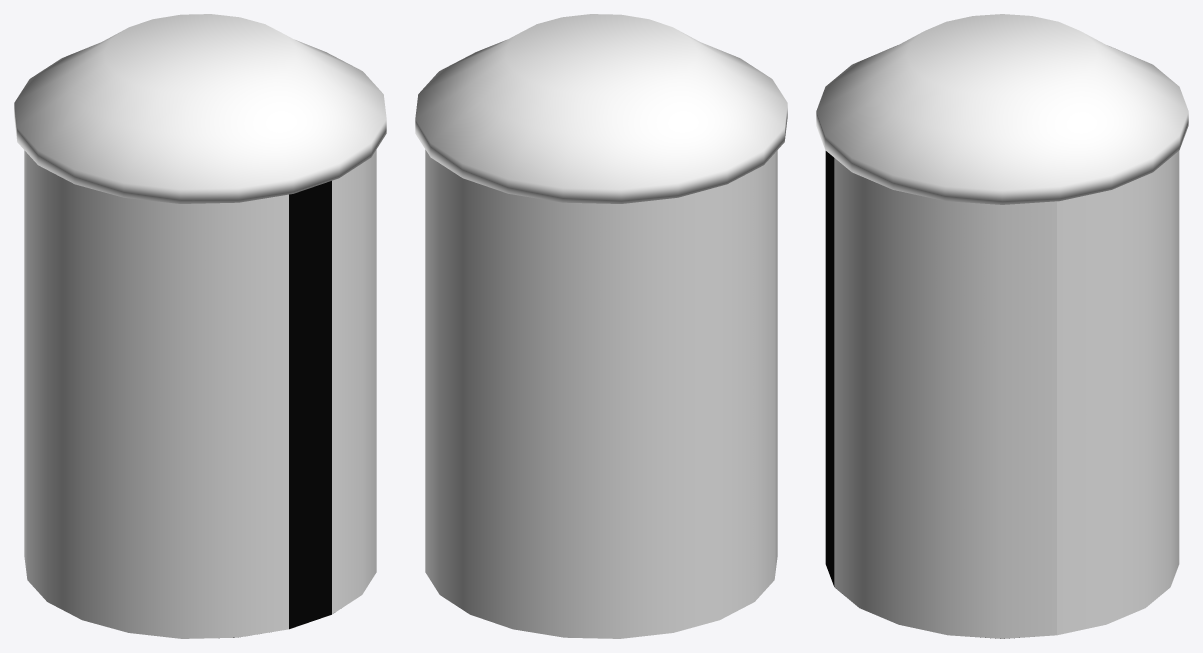
File: jupiter-c-tub.glb
3 views of the same model, side by side, from view 1: azimuth 30°, elevation 25°; view 2: azimuth 150°, elevation 25°; view 3: azimuth 270°, elevation 25° (orthographic).
Visible parts, largest first — view 1: tub; view 2: tub; view 3: tub.
Part boxes in pixels (x1,y1,x2,y2): tub: [14, 14, 386, 638]; tub: [415, 14, 787, 638]; tub: [816, 14, 1188, 638].
Bounding box in the file's own units: 0.9612 × 1.44 × 0.9552.
1 material, 1 textured.
